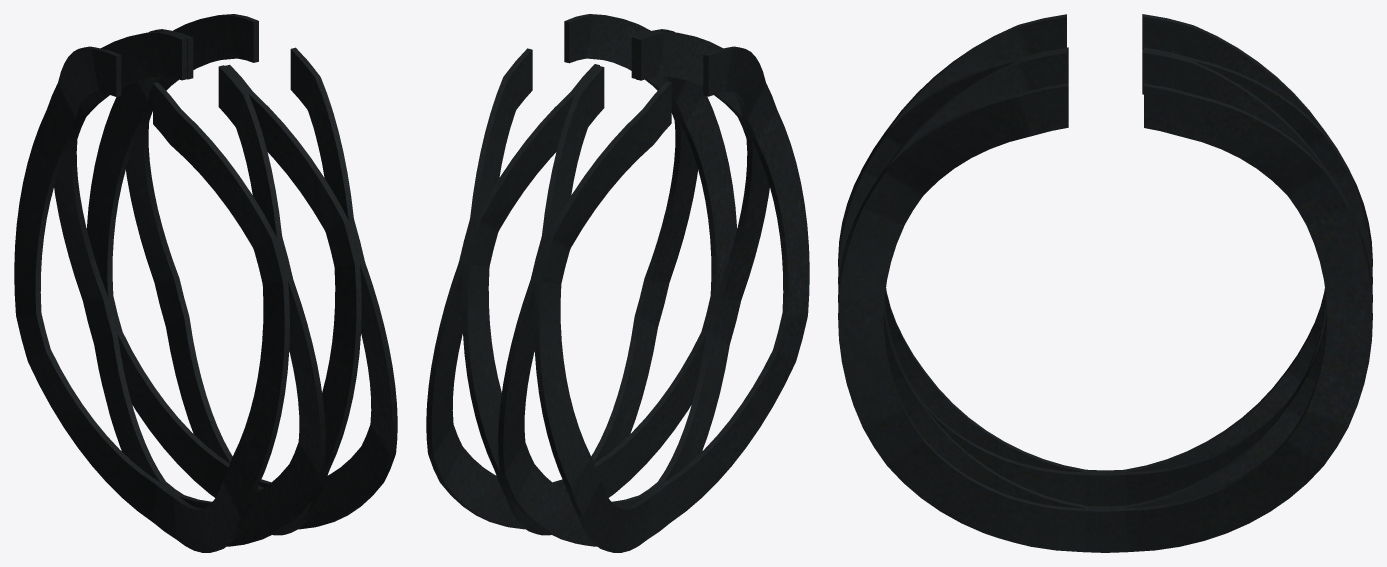
The model's file is Handguard_Slip_Ring_Spring.dae.
3 renders of one model, left to right at view 1: azimuth 30°, elevation 25°; view 2: azimuth 150°, elevation 25°; view 3: azimuth 270°, elevation 25°, orthographic. The views are drawn at different scales.
Parts seen in each view (by area): view 1: Handguard_Slip_Ring_Spring; view 2: Handguard_Slip_Ring_Spring; view 3: Handguard_Slip_Ring_Spring.
Part boxes in pixels (left/top/right/bottom): Handguard_Slip_Ring_Spring: left=14, top=14, right=397, bottom=552; Handguard_Slip_Ring_Spring: left=426, top=14, right=809, bottom=552; Handguard_Slip_Ring_Spring: left=838, top=14, right=1372, bottom=552.
Size of the model in its own units: 0.0137 by 0.043 by 0.0427.
Materials: 1 (1 with a texture image).
